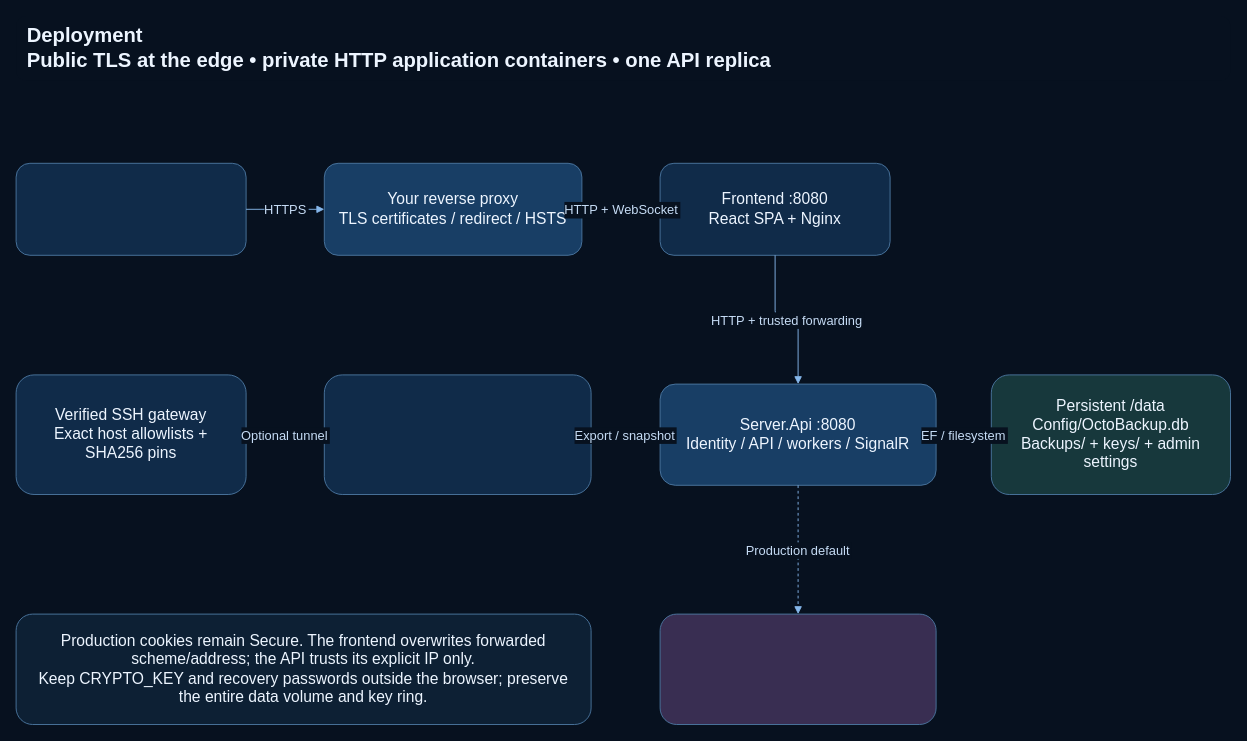
Some shapes in this 1247 by 741 pixel diagram are drawn without their labels. Here are the shapes that lost their labels. From the top down, the centre of each, then its label:
the point at 130,208: Browser Cookie session + in-memory CSRF
the point at 457,434: Database sources MySQL / MariaDB / PostgreSQL SQL Server shared staging / SQLite
the point at 797,668: Default restore runtime Dedicated Docker daemon Networkless, bounded containers
